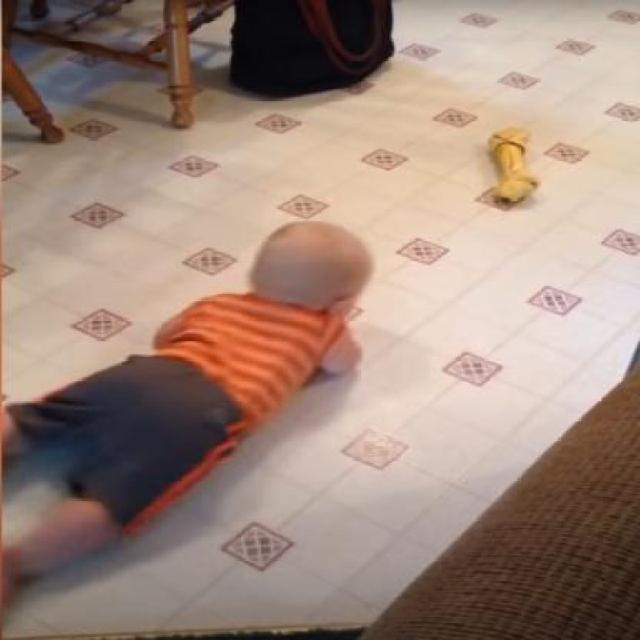baby: (1, 215, 374, 596)
